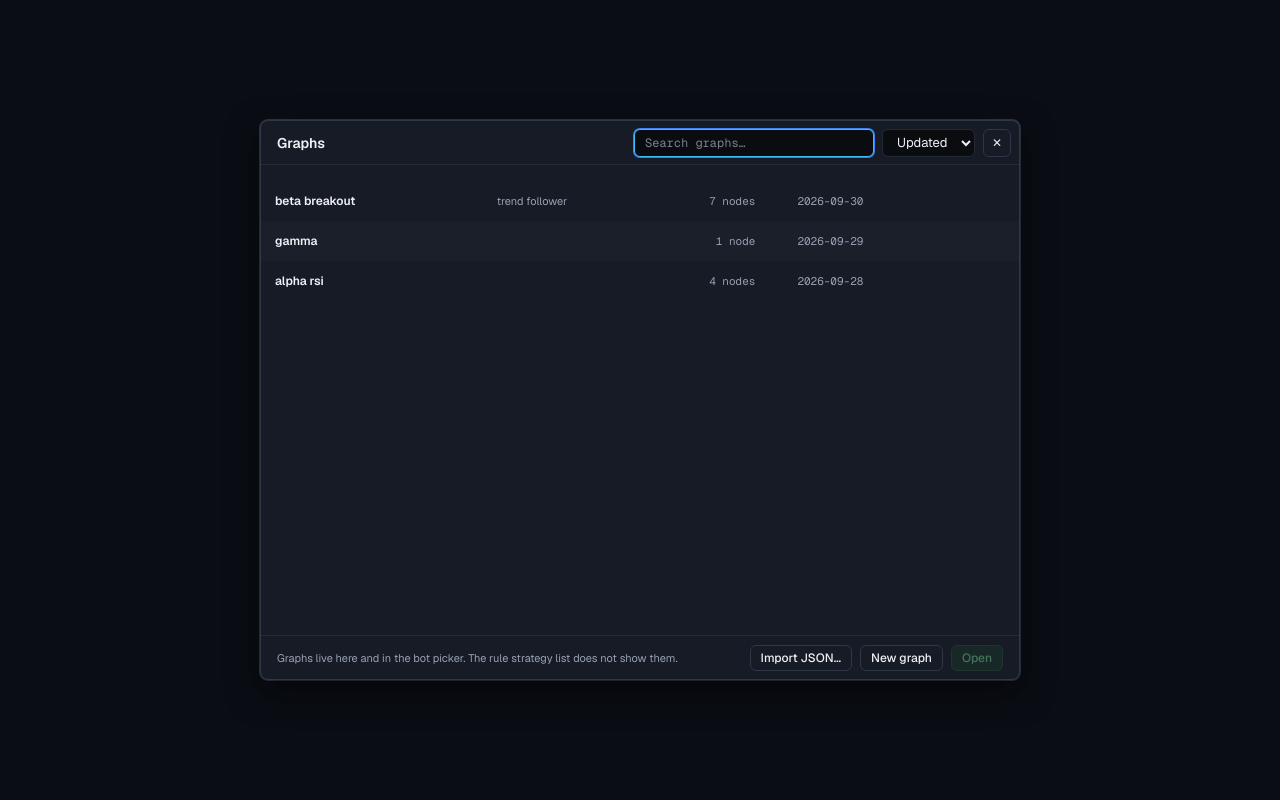
GraphBrowser › keeps the dialog open with the error when opening fails
The image size is (1280, 800).
Double-click the option with test id "nb-browser-row-g_a" at x=299, y=281, box x1=275 y1=273 x2=863 y2=289
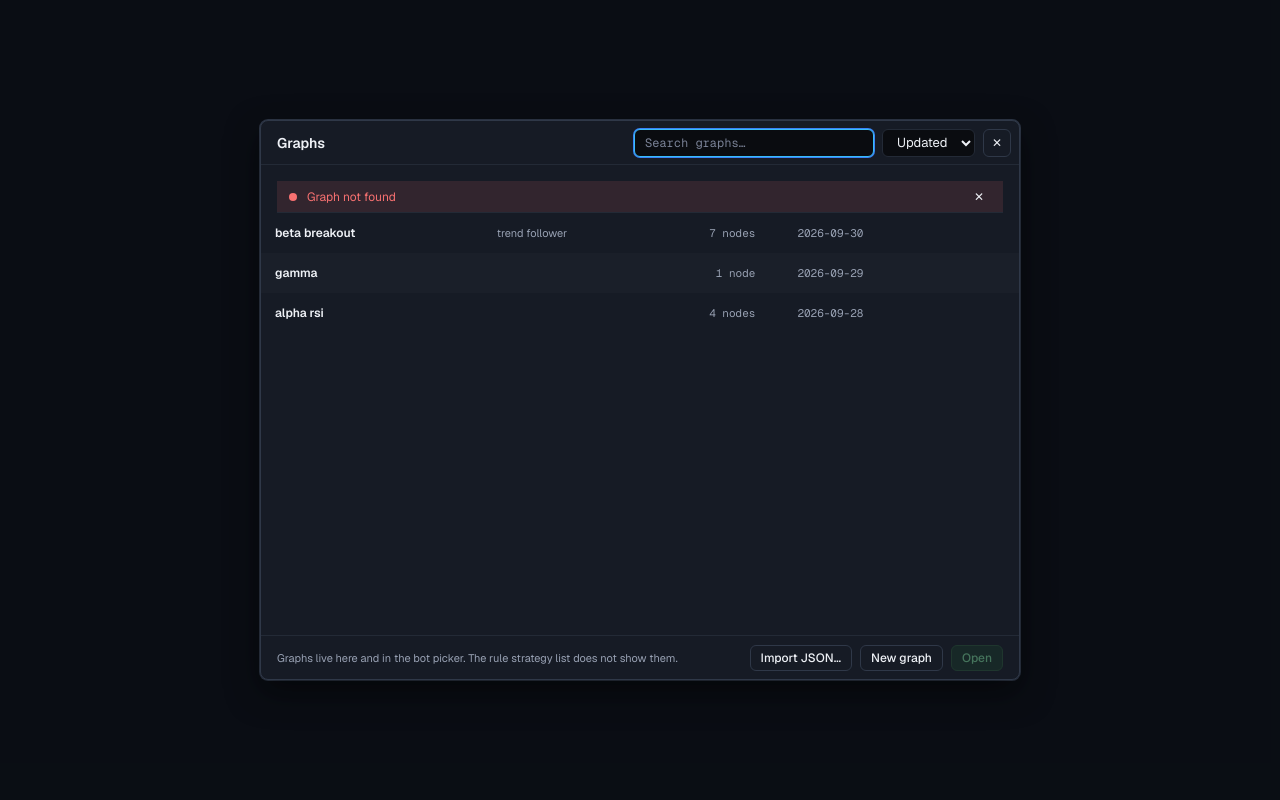
expect the dialog with test id "nb-graph-browser" is shown: met, box x1=260 y1=120 x2=1020 y2=680
expect the message with test id "nb-browser-banner" shows "Graph not found": met, box x1=307 y1=188 x2=396 y2=204
